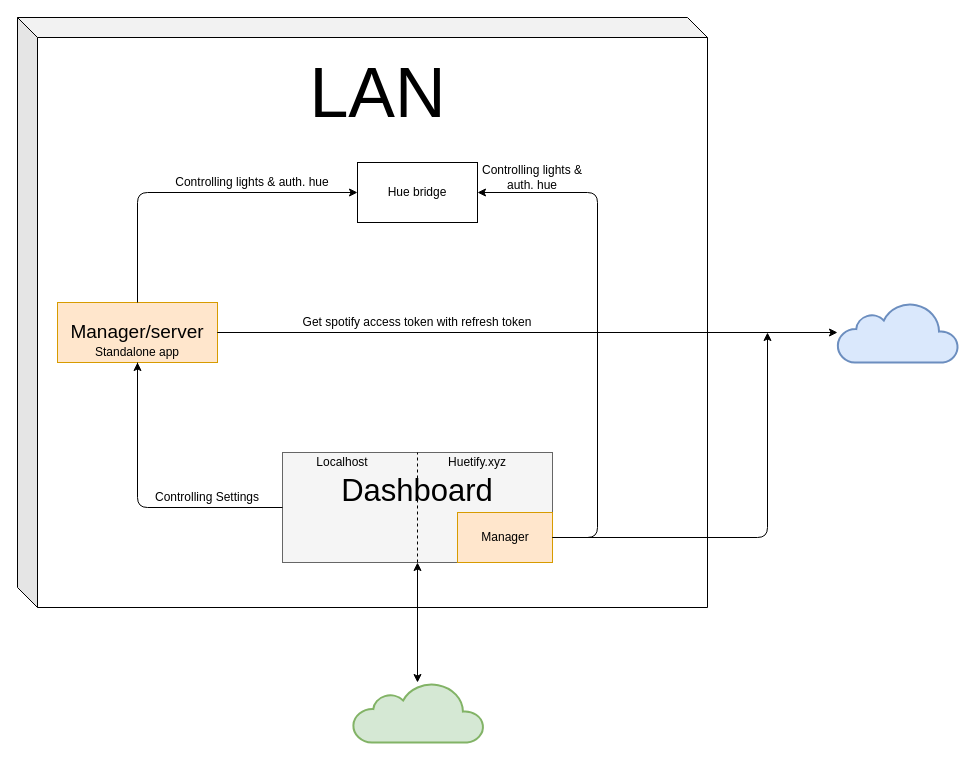
The diagram is 977 pixels wide and 761 high, and some of its shapes have lost their labels. Here are the shapes that lost their labels. From the top down, the box of each, then its label:
(836, 301, 959, 363): Huetify.xyz/api
(352, 681, 484, 743): oauth2 via spotify.com
